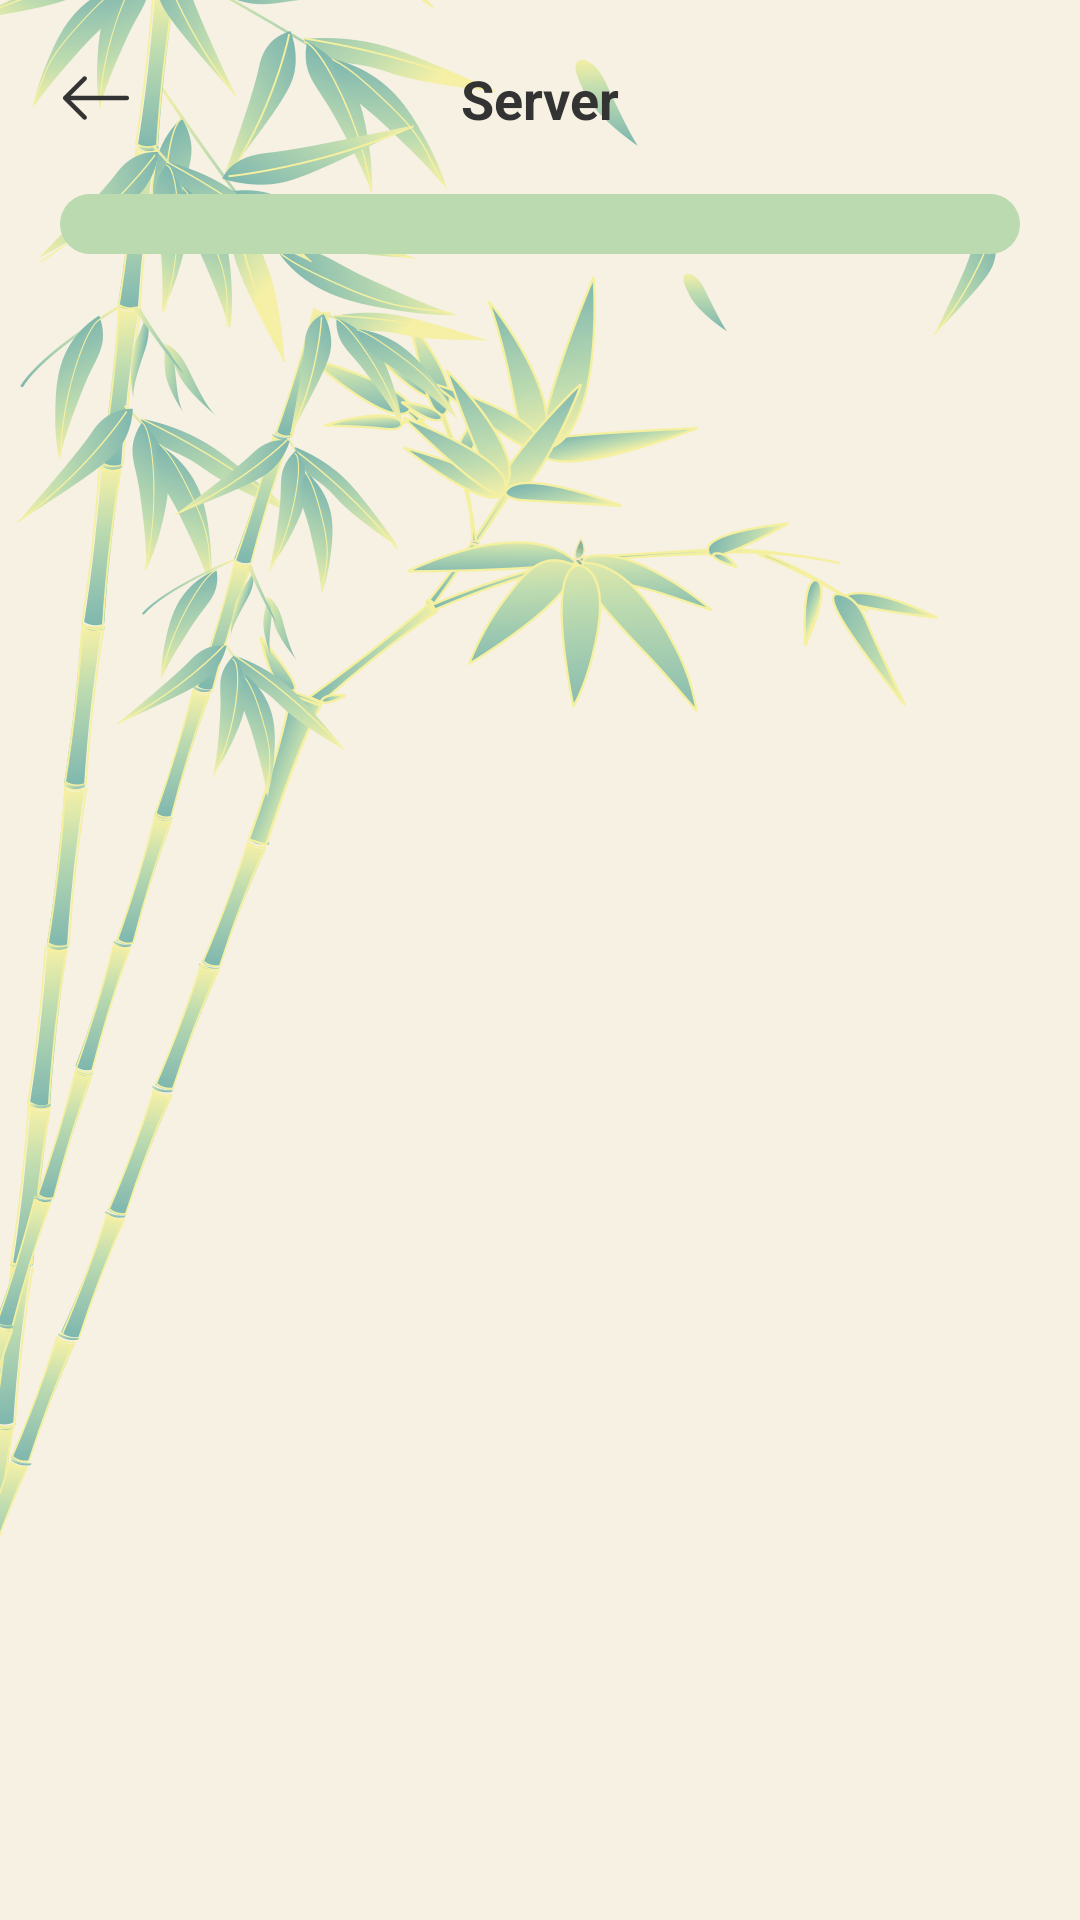

Locate icon controls on the screen. Image size 1080px×1920px, boxes as (x1, y1, x2, y2).
back: (60, 62, 129, 120)
